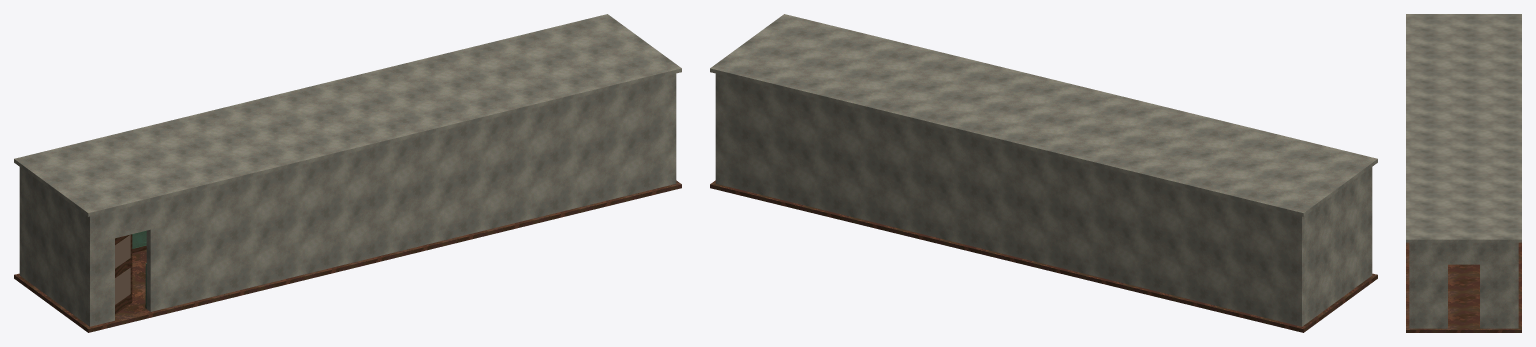
File: ep_piscar.glb
The picture shows the model from 3 angles, left to right: view 1: azimuth 30°, elevation 25°; view 2: azimuth 150°, elevation 25°; view 3: azimuth 270°, elevation 25°; orthographic projection. The views are drawn at different scales.
Parts seen in each view (by area): view 1: plaster-col, linoleum-col, flat, wood_dark; view 2: plaster-col, linoleum-col; view 3: plaster-col, linoleum-col.
Boxes of the visible parts, bbox=[...] form: plaster-col: bbox=[14, 14, 681, 326]; linoleum-col: bbox=[14, 180, 681, 332]; flat: bbox=[115, 235, 130, 304]; wood_dark: bbox=[115, 234, 146, 314]; plaster-col: bbox=[710, 14, 1377, 326]; linoleum-col: bbox=[710, 180, 1377, 332]; plaster-col: bbox=[1406, 14, 1521, 328]; linoleum-col: bbox=[1406, 242, 1521, 332].
Bounding box in the file's own units: 16.6 × 3.2 × 3.6.
22 materials, 8 textured.
